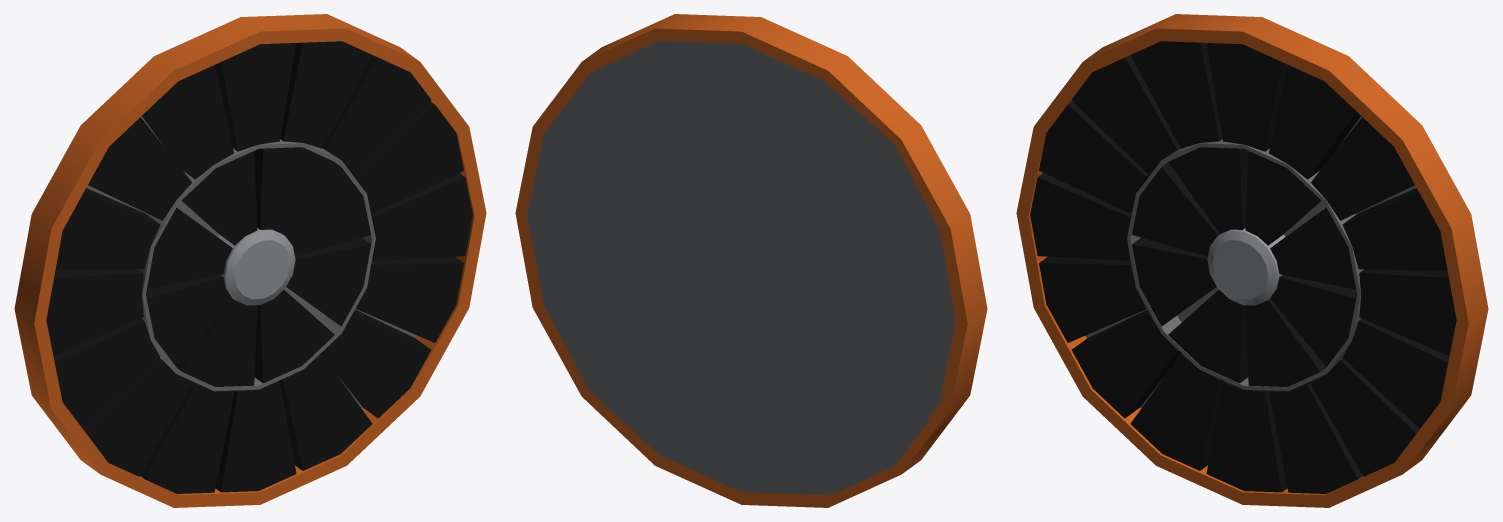
File: engine_hot_emitter_annulus.obj
The picture shows the model from 3 angles, left to right: view 1: azimuth 30°, elevation 25°; view 2: azimuth 150°, elevation 25°; view 3: azimuth 330°, elevation 25°; orthographic projection.
Visible parts, largest first — view 1: engine_hot_emitter_annulus; view 2: engine_hot_emitter_annulus; view 3: engine_hot_emitter_annulus.
Boxes of the visible parts, <box> form: engine_hot_emitter_annulus: <box>14,14,486,507</box>; engine_hot_emitter_annulus: <box>515,14,987,507</box>; engine_hot_emitter_annulus: <box>1016,14,1488,507</box>.
Size of the model in its own units: 4.88 by 4.88 by 0.41.
